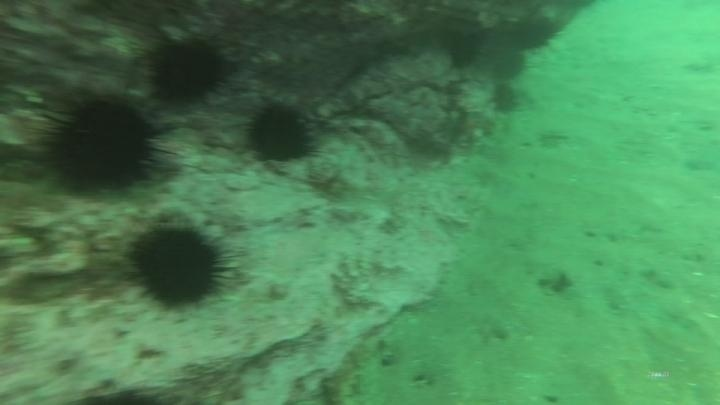echinus: (37, 88, 171, 200), (123, 217, 238, 313), (141, 31, 233, 111), (240, 98, 320, 168)
holothurian: (321, 336, 380, 405)
